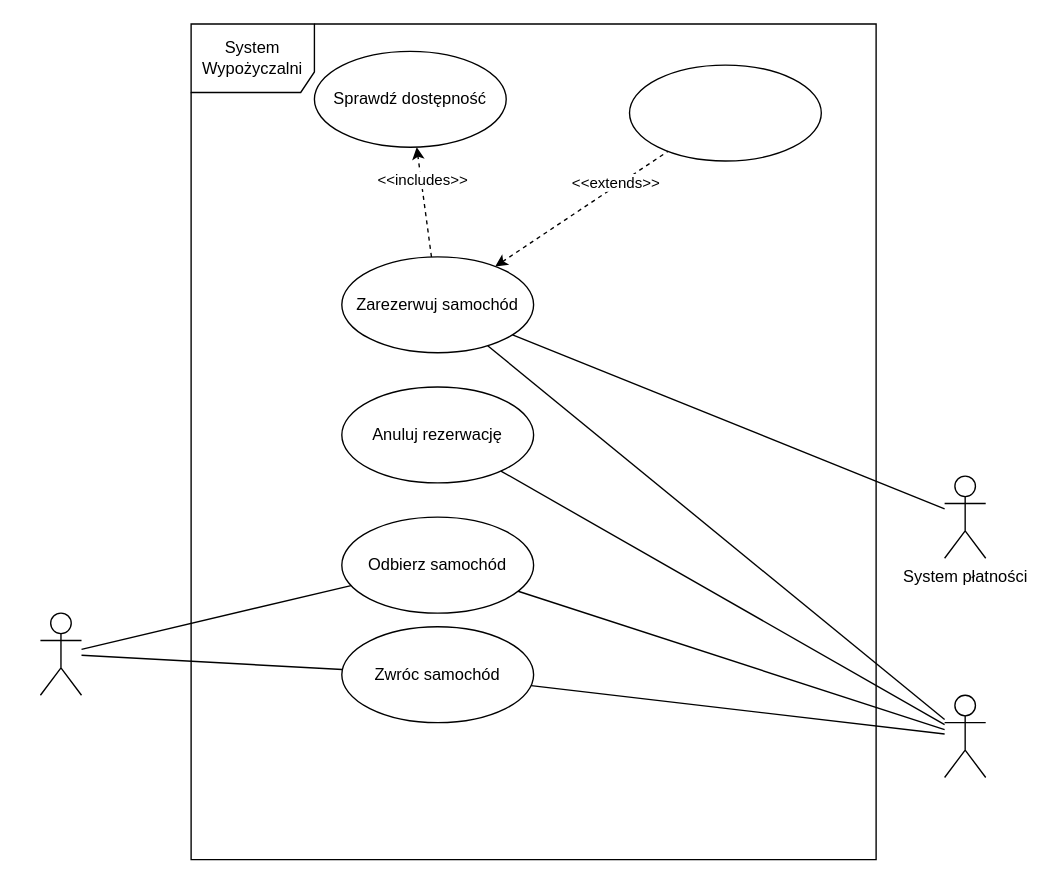
Image size: 1051x884. Some labels were removed from this diagram. Each missing label, with the centre of its shape:
"Dodaj ubezpieczenie" goes at point (724, 112).
"Klient" goes at point (964, 735).
"Pracownik" goes at point (60, 653).
